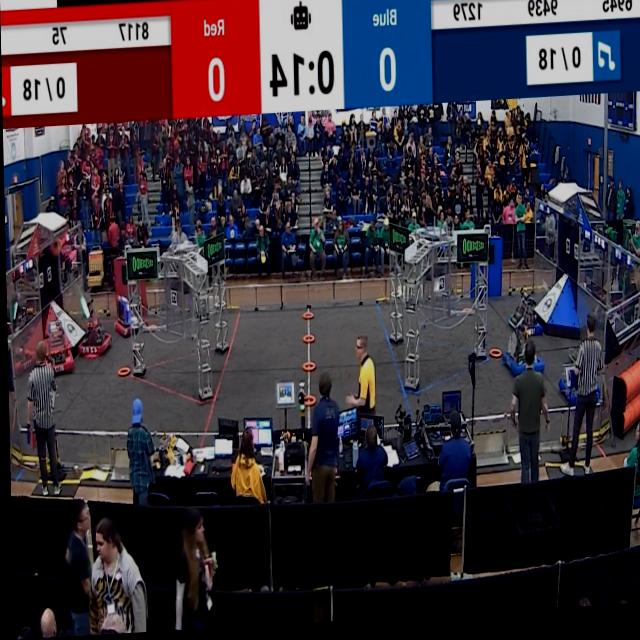Robot: (489, 319, 549, 394), (553, 342, 604, 419), (77, 287, 113, 372), (110, 279, 149, 347), (502, 283, 544, 346), (40, 314, 75, 383)
